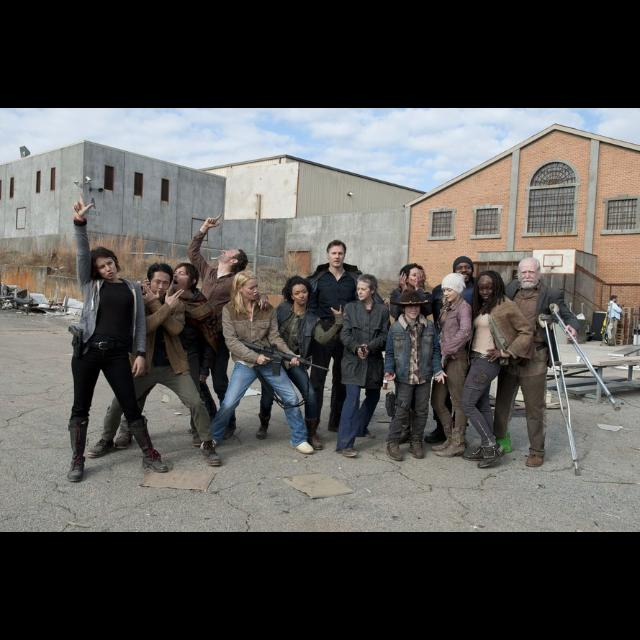head: (171, 262, 201, 296), (475, 270, 505, 304), (148, 264, 174, 298), (218, 248, 248, 276), (92, 249, 118, 281), (234, 270, 260, 302), (518, 258, 542, 290), (288, 280, 310, 308), (401, 264, 425, 288), (357, 276, 379, 302), (453, 258, 475, 284), (442, 276, 464, 302), (327, 242, 347, 270), (402, 297, 422, 321), (610, 296, 618, 304)
person: (60, 190, 172, 484), (85, 260, 225, 468), (176, 212, 272, 444), (199, 269, 317, 457), (289, 239, 391, 441), (490, 256, 582, 472), (112, 263, 215, 452), (254, 274, 348, 452), (458, 268, 540, 470), (418, 254, 490, 446), (381, 288, 449, 464), (334, 273, 392, 459), (384, 260, 436, 448), (428, 270, 478, 458), (604, 294, 626, 348)
